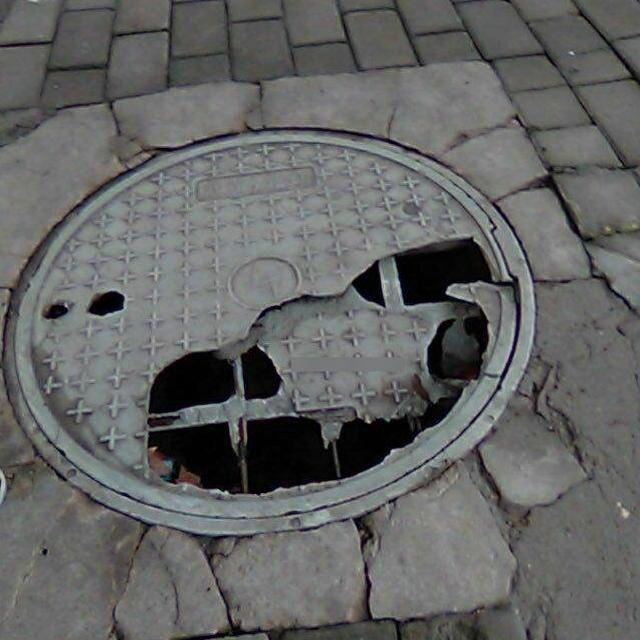broke: (3, 128, 536, 536)
